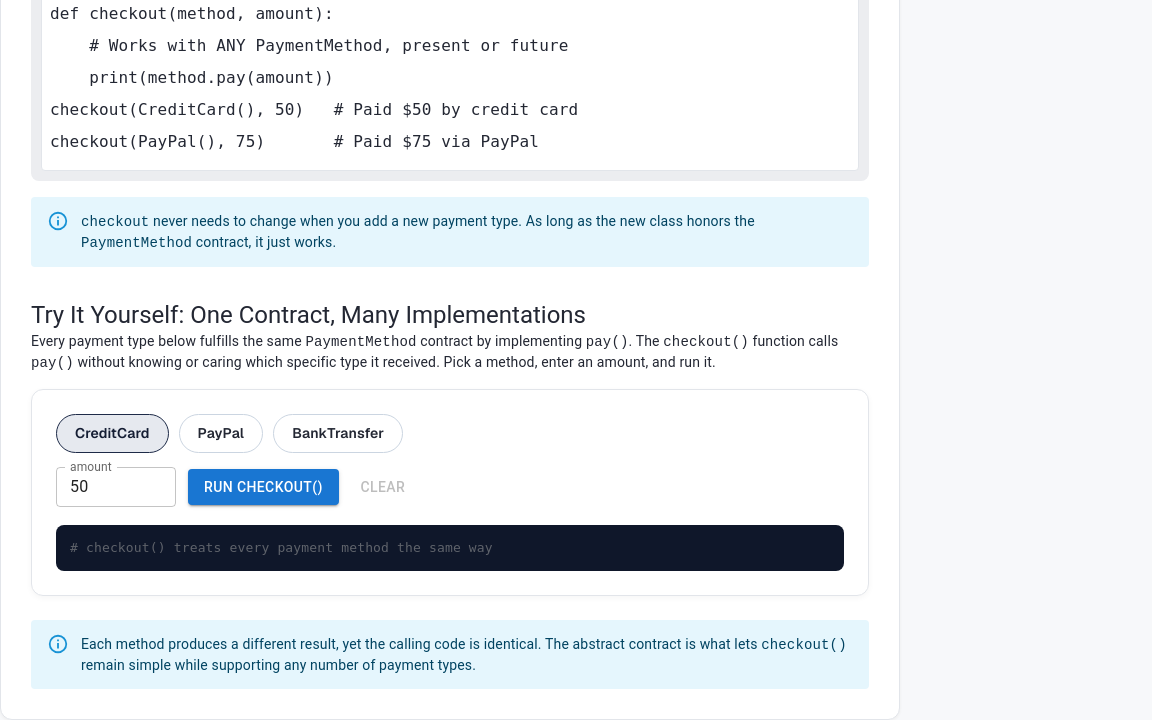
Scenario: AbstractionConcept › switches to PayPal and runs the same checkout()
(page scrolled)
Click the button "PayPal" at (221, 433), box [179,414,263,453]
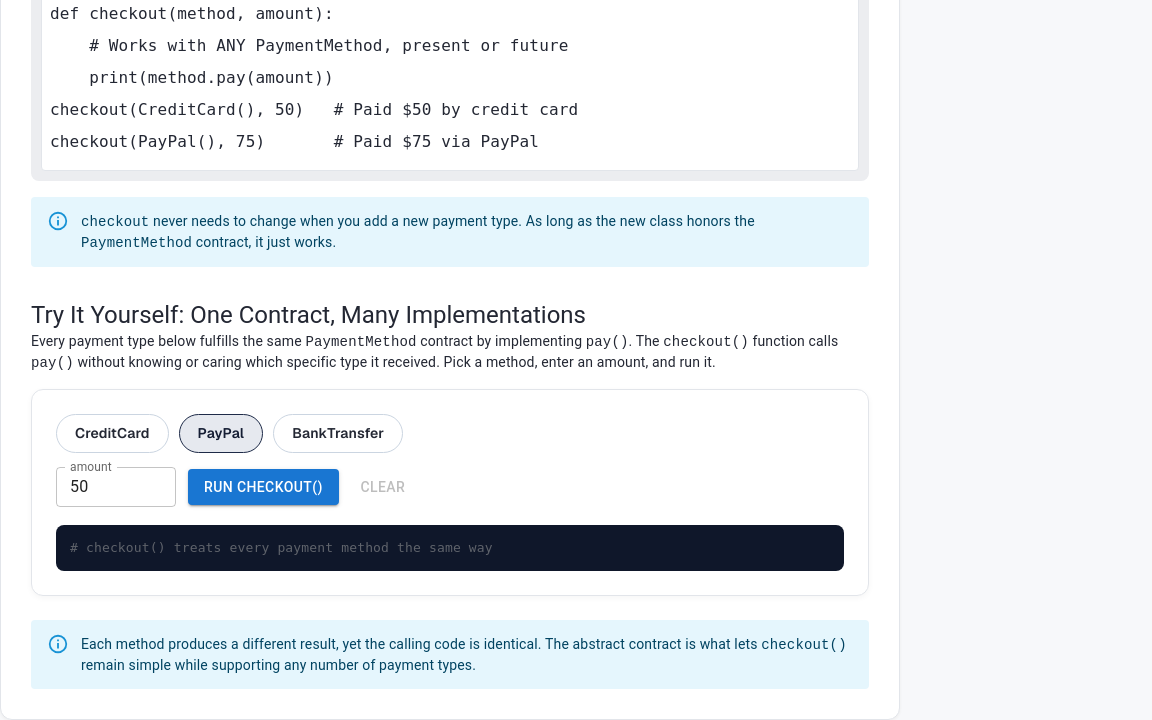
Click the button "Run checkout()" at (263, 487), box [188,469,339,505]
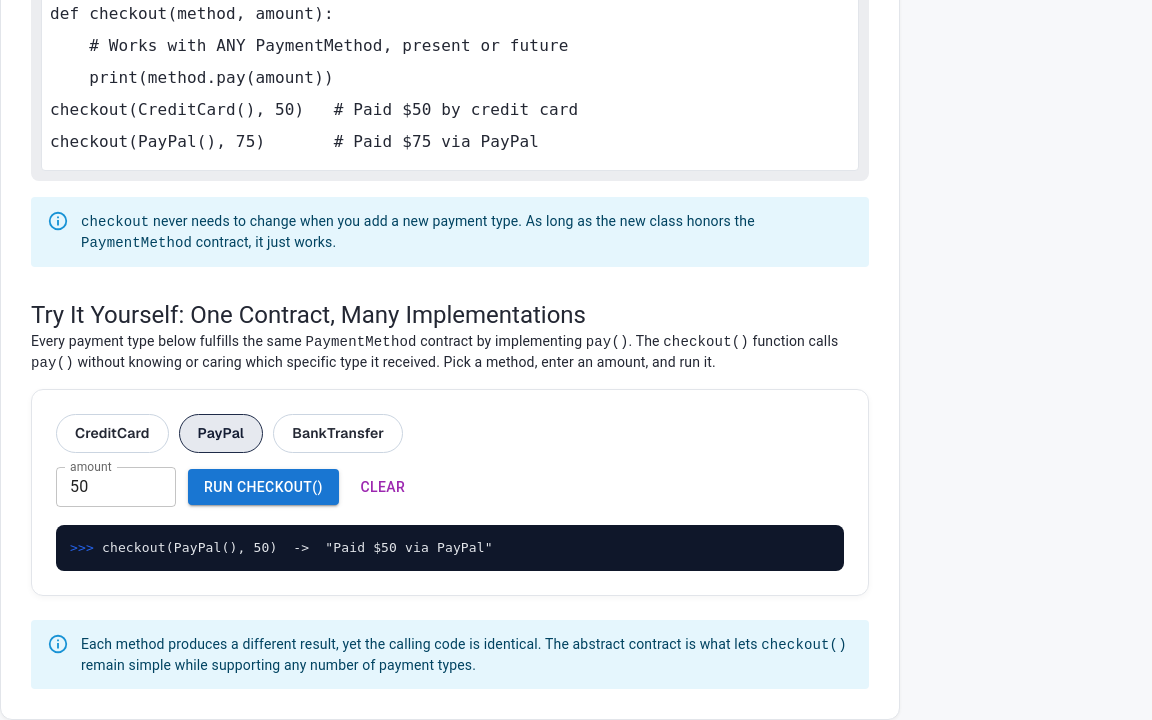
Now the text ">>> checkout(PayPal(), 50) -> \"Paid $50 via PayPal\"" is shown, box [70,540,493,555]
